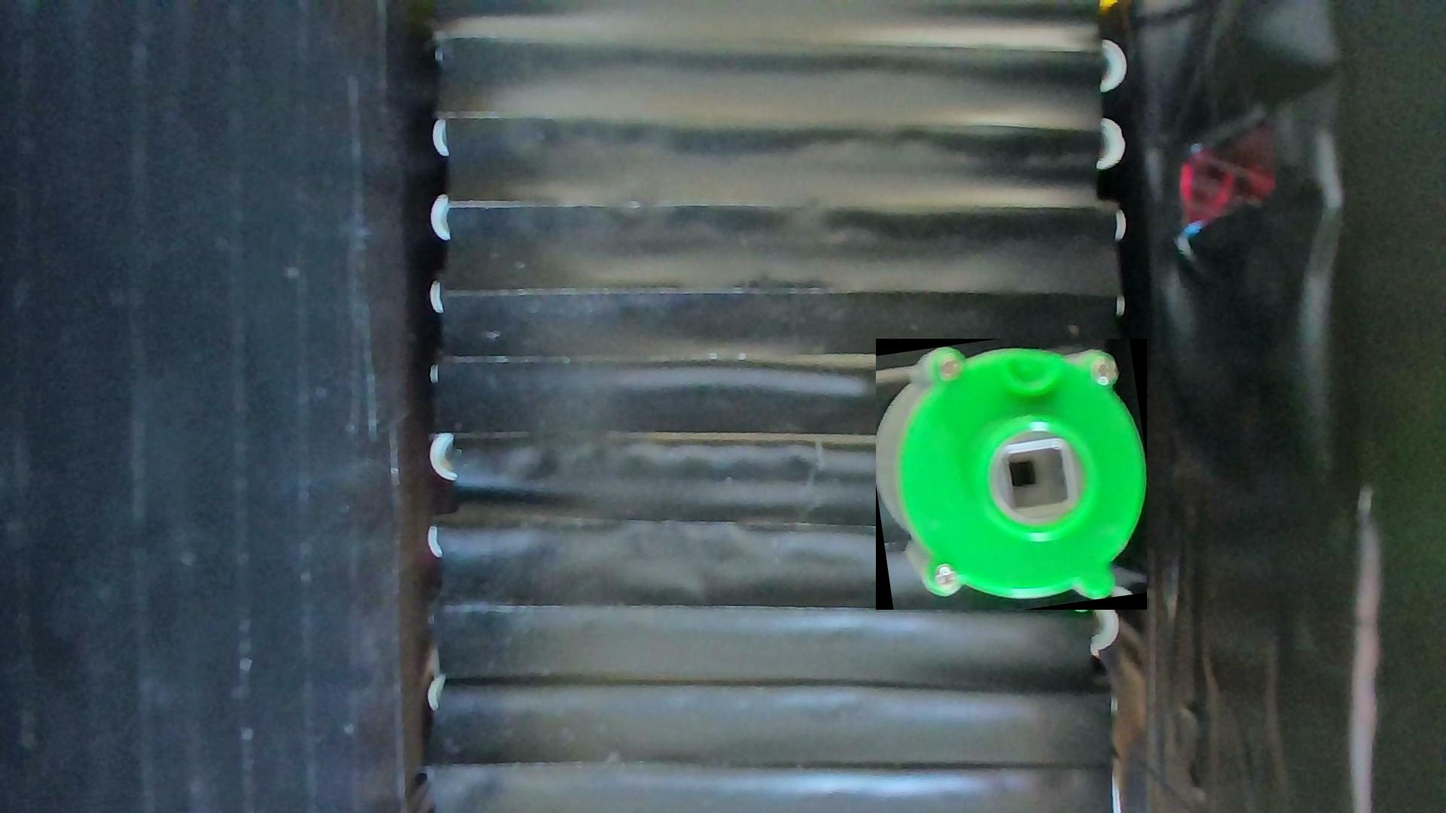cartridge: (876, 339, 1147, 611)
